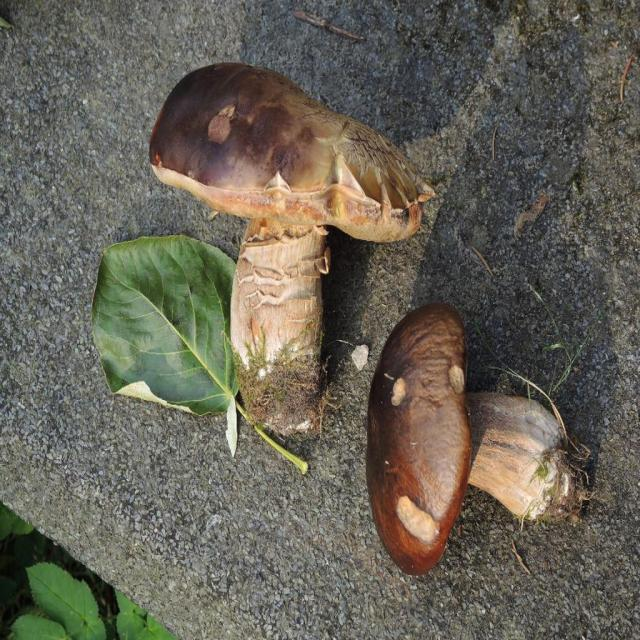Boletus: (152, 64, 427, 440), (368, 313, 587, 571)
